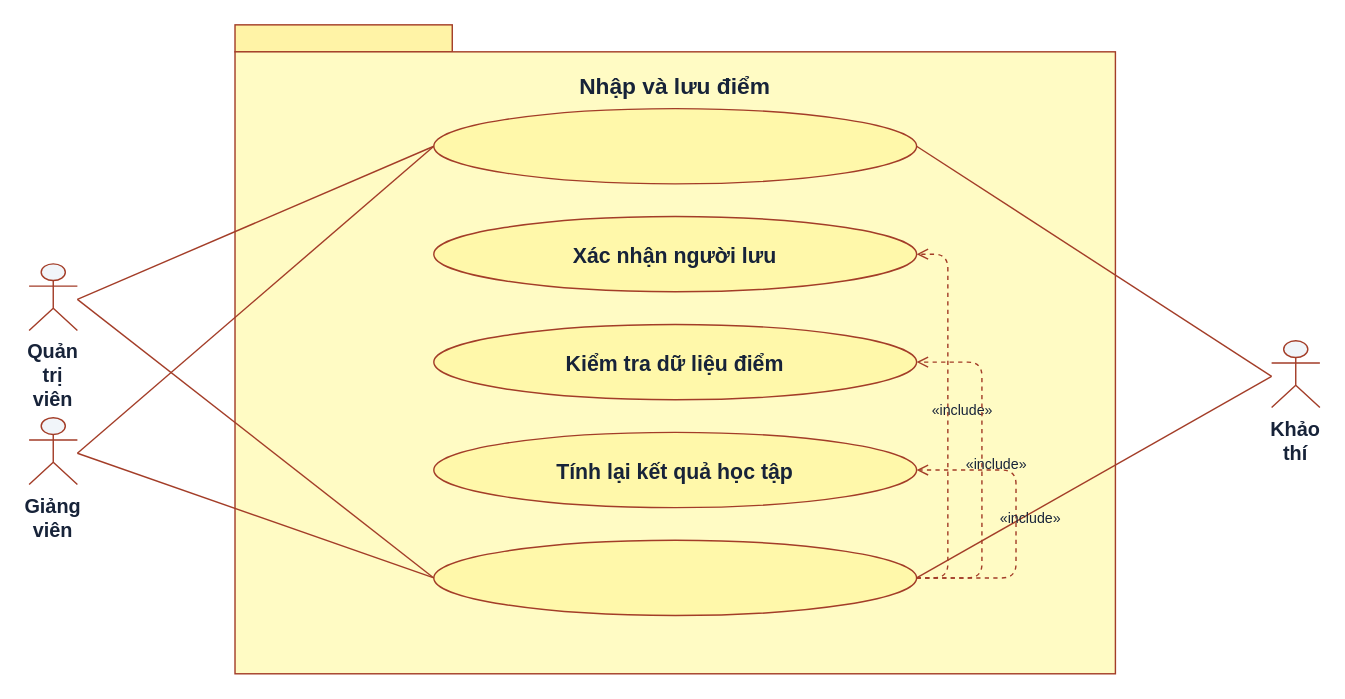
Some shapes in this 1345 by 699 pixel diagram are drawn without their labels. The centre of each missing label's shape, as x and y in pixels:
Lưu và ghi nhật ký: point 674,577
Nhập điểm thành phần: point 674,145
